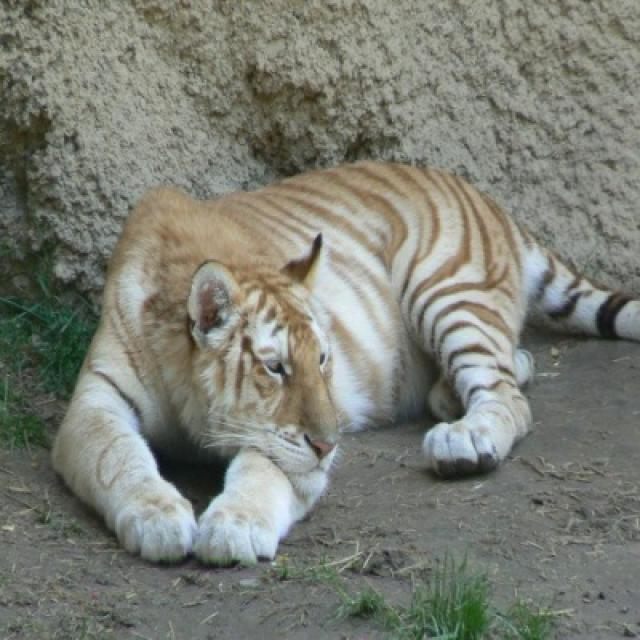Tiger: (53, 162, 638, 562)
